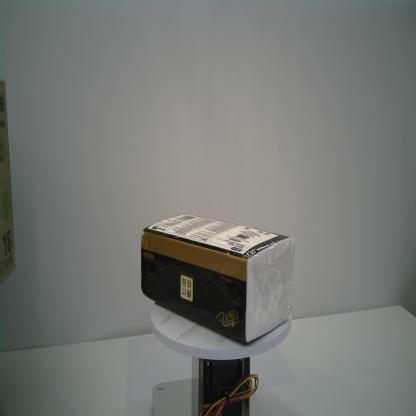Tissue: (139, 212, 296, 345)
